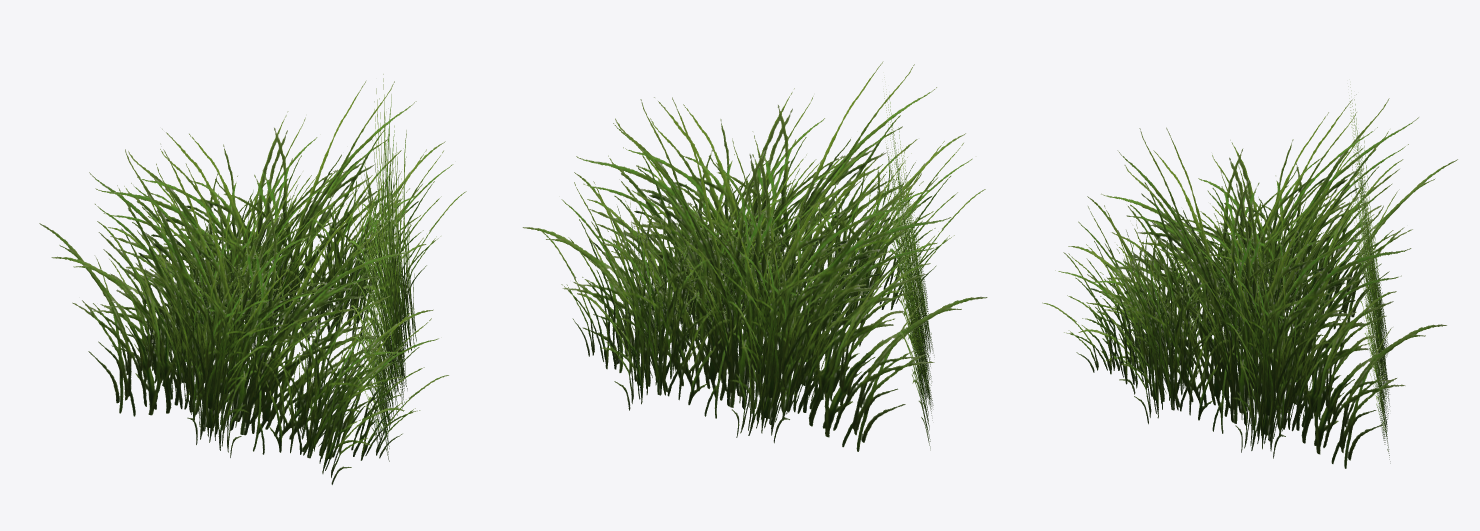
Rendered from Grass_003.fbx.
3 renders of one model, left to right at view 1: azimuth 30°, elevation 25°; view 2: azimuth 150°, elevation 25°; view 3: azimuth 270°, elevation 25°, orthographic. The views are drawn at different scales.
Visible parts, largest first — view 1: Grass; view 2: Grass; view 3: Grass.
Boxes of the visible parts, x1=… form: Grass: x1=39, y1=74, x2=466, y2=484; Grass: x1=522, y1=61, x2=987, y2=451; Grass: x1=1042, y1=84, x2=1457, y2=468.
Size of the model in its own units: 207 by 139 by 180.
1 material, 1 textured.
